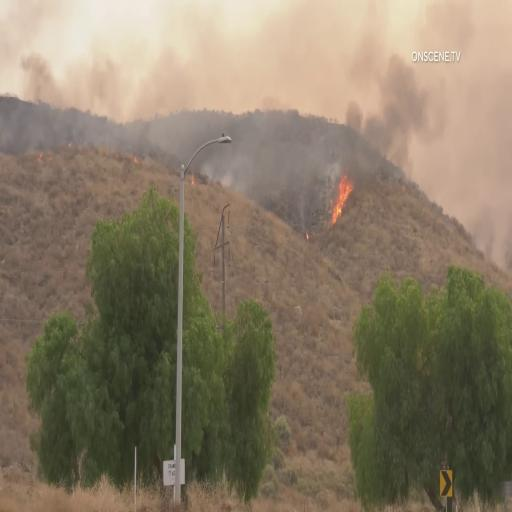fire: (326, 167, 352, 232)
smoke: (335, 73, 442, 169)
